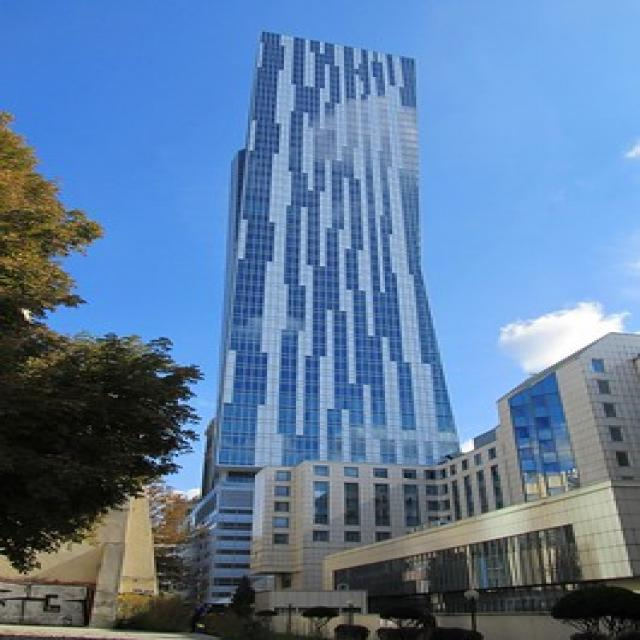Normal_building: (196, 25, 466, 623)
